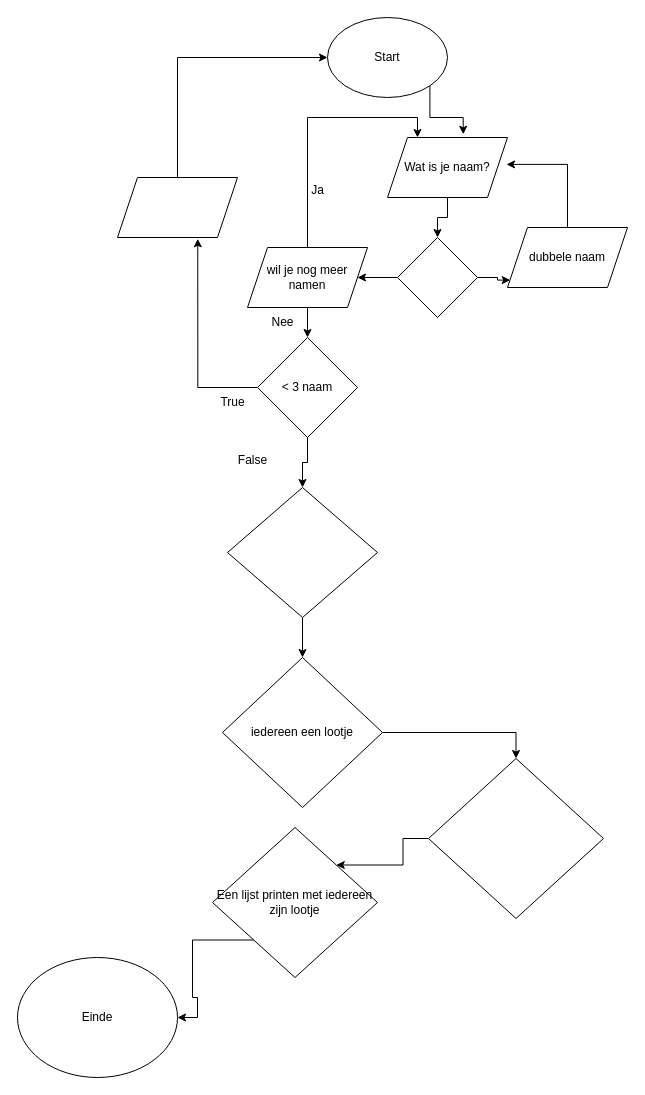
The diagram is 645 pixels wide and 1095 high, and some of its shapes have lost their labels. Each missing label, with the centre of its shape:
"ingevoerde naam" belongs at (437,277).
"lootje van jezelf? dan krijg je een andere" belongs at (516,838).
"lootjes trekken" belongs at (302,552).
"minimaal 3 namen" belongs at (177,207).
